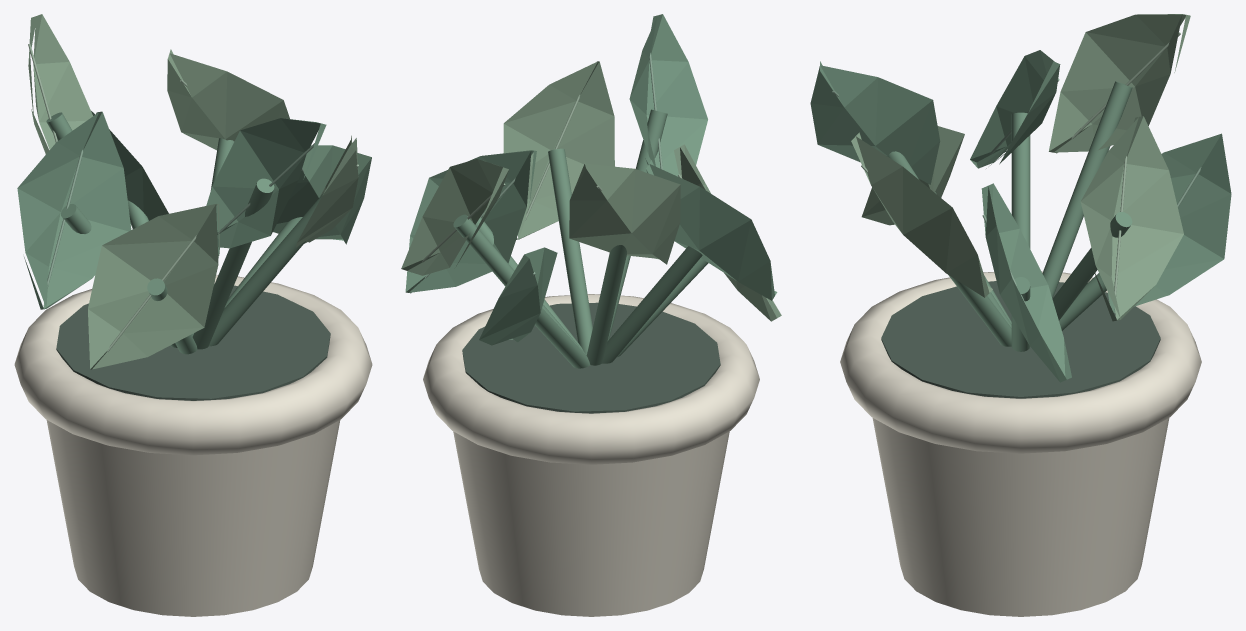
The model's file is fern.glb.
3 renders of one model, left to right at view 1: azimuth 30°, elevation 25°; view 2: azimuth 150°, elevation 25°; view 3: azimuth 270°, elevation 25°, orthographic. The views are drawn at different scales.
Parts seen in each view (by area): view 1: _MeshInstance3D_1019, _MeshInstance3D_1020, _MeshInstance3D_1021, _MeshInstance3D_1032, _MeshInstance3D_1035, _MeshInstance3D_1029, _MeshInstance3D_1044, _MeshInstance3D_1038, _MeshInstance3D_1023, _MeshInstance3D_1026, _MeshInstance3D_1025, _MeshInstance3D_1028 (+4 smaller); view 2: _MeshInstance3D_1019, _MeshInstance3D_1020, _MeshInstance3D_1021, _MeshInstance3D_1026, _MeshInstance3D_1038, _MeshInstance3D_1029, _MeshInstance3D_1035, _MeshInstance3D_1044, _MeshInstance3D_1023, _MeshInstance3D_1041, _MeshInstance3D_1025, _MeshInstance3D_1034 (+6 smaller); view 3: _MeshInstance3D_1019, _MeshInstance3D_1020, _MeshInstance3D_1021, _MeshInstance3D_1044, _MeshInstance3D_1038, _MeshInstance3D_1029, _MeshInstance3D_1041, _MeshInstance3D_1026, _MeshInstance3D_1023, _MeshInstance3D_1035, _MeshInstance3D_1037, _MeshInstance3D_1034 (+5 smaller).
Boxes of the visible parts, x1,y1,x2,y2 form: _MeshInstance3D_1019: (46,420,340,616); _MeshInstance3D_1020: (14,275,372,455); _MeshInstance3D_1021: (56,284,330,400); _MeshInstance3D_1032: (88,204,219,369); _MeshInstance3D_1035: (17,111,131,309); _MeshInstance3D_1029: (206,118,326,248); _MeshInstance3D_1044: (167,49,289,150); _MeshInstance3D_1038: (28,14,92,154); _MeshInstance3D_1023: (273,145,371,244); _MeshInstance3D_1026: (296,135,358,247); _MeshInstance3D_1025: (209,193,323,346); _MeshInstance3D_1028: (192,178,274,349); _MeshInstance3D_1019: (453,431,729,616); _MeshInstance3D_1020: (423,294,759,464); _MeshInstance3D_1021: (462,302,720,413); _MeshInstance3D_1026: (503,61,614,239); _MeshInstance3D_1038: (569,160,680,264); _MeshInstance3D_1029: (629,14,707,176); _MeshInstance3D_1035: (646,160,777,300); _MeshInstance3D_1044: (401,159,508,275); _MeshInstance3D_1023: (405,150,536,293); _MeshInstance3D_1041: (479,247,557,345); _MeshInstance3D_1025: (548,148,592,354); _MeshInstance3D_1034: (602,246,702,363); _MeshInstance3D_1019: (872,418,1169,616); _MeshInstance3D_1020: (840,271,1201,453); _MeshInstance3D_1021: (881,281,1160,398); _MeshInstance3D_1044: (1080,116,1183,321); _MeshInstance3D_1038: (1048,14,1190,153); _MeshInstance3D_1029: (810,61,940,184); _MeshInstance3D_1041: (1108,133,1231,313); _MeshInstance3D_1026: (851,132,992,297); _MeshInstance3D_1023: (981,183,1071,382); _MeshInstance3D_1035: (970,50,1060,168); _MeshInstance3D_1037: (1042,81,1132,298); _MeshInstance3D_1034: (1011,112,1030,248).
Bounding box in the file's own units: 0.2862 × 0.3877 × 0.2862.
